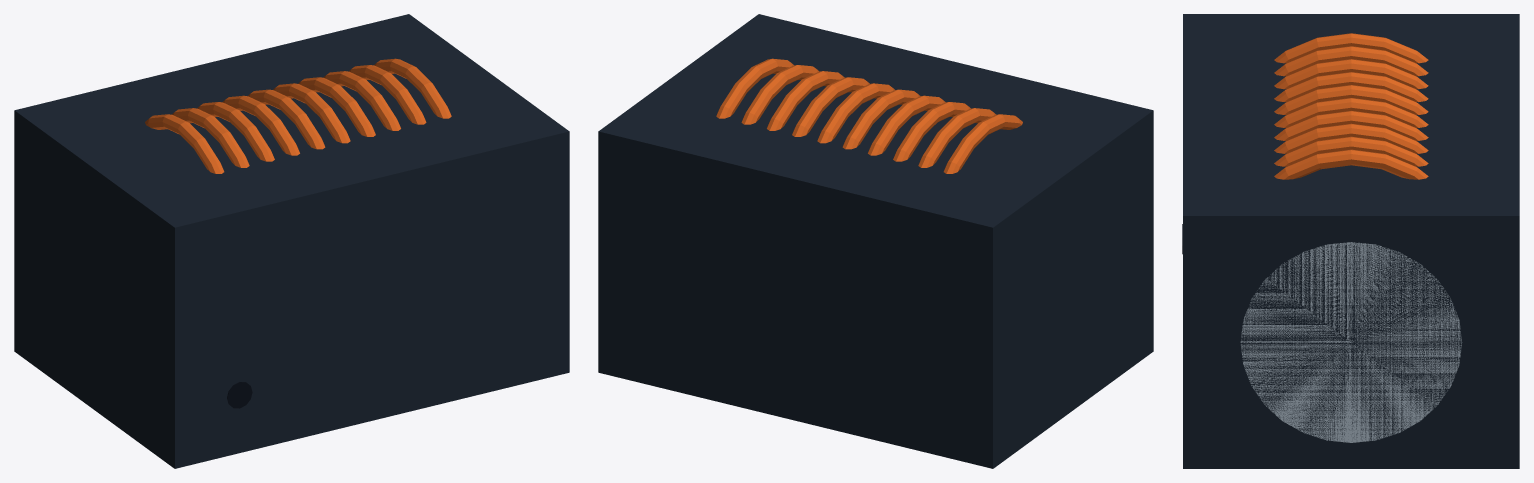
Rendered from 43_L87_RingAngularMomentumCompensationUnit.fbx.
The picture shows the model from 3 angles, left to right: view 1: azimuth 30°, elevation 25°; view 2: azimuth 150°, elevation 25°; view 3: azimuth 270°, elevation 25°; orthographic projection. The views are drawn at different scales.
Visible parts, largest first — view 1: L87_RingAngularMomentumCompensationUnit, L87_RingAngularMomentumCompensationUnit_Part_0001; view 2: L87_RingAngularMomentumCompensationUnit, L87_RingAngularMomentumCompensationUnit_Part_0001; view 3: L87_RingAngularMomentumCompensationUnit, L87_RingAngularMomentumCompensationUnit_Part_0002, L87_RingAngularMomentumCompensationUnit_Part_0001.
Boxes of the visible parts, <box> form: L87_RingAngularMomentumCompensationUnit: <box>14,14,569,468</box>; L87_RingAngularMomentumCompensationUnit_Part_0001: <box>145,58,451,173</box>; L87_RingAngularMomentumCompensationUnit: <box>598,14,1153,468</box>; L87_RingAngularMomentumCompensationUnit_Part_0001: <box>716,58,1022,173</box>; L87_RingAngularMomentumCompensationUnit: <box>1183,14,1519,468</box>; L87_RingAngularMomentumCompensationUnit_Part_0002: <box>1240,242,1462,442</box>; L87_RingAngularMomentumCompensationUnit_Part_0001: <box>1274,33,1428,179</box>.
Size of the model in its own units: 125 by 80.6 by 88.2.
